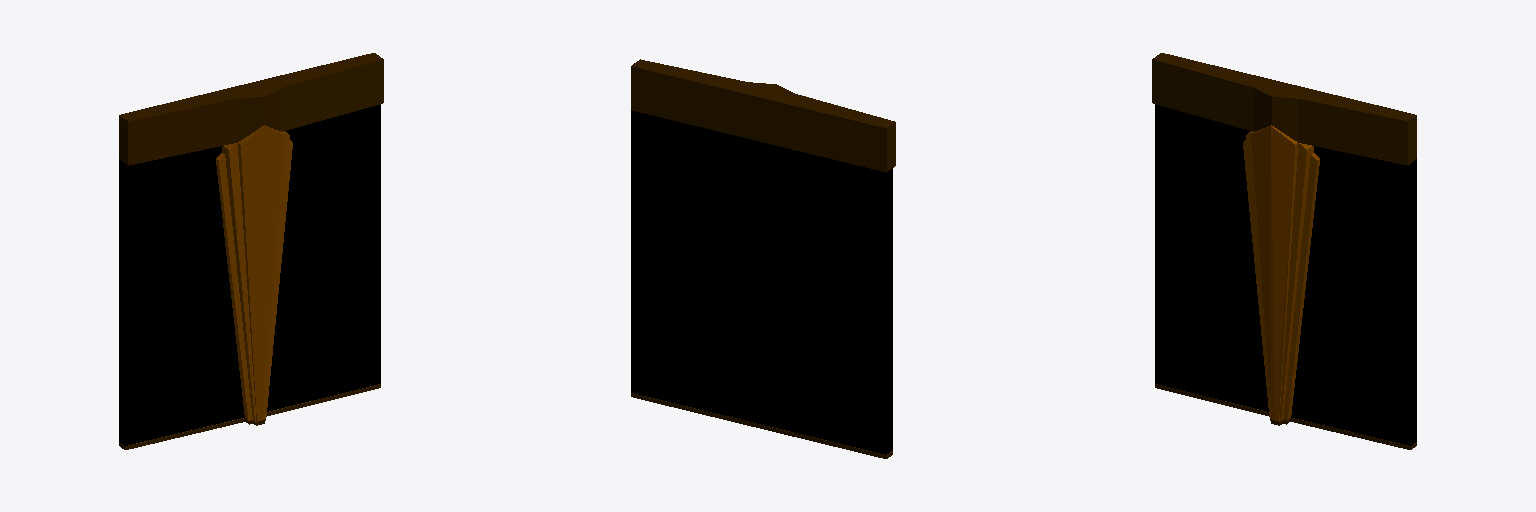
File: wall_piece.obj
3 renders of one model, left to right at view 1: azimuth 30°, elevation 25°; view 2: azimuth 150°, elevation 25°; view 3: azimuth 330°, elevation 25°, orthographic.
Visible parts, largest first — view 1: wall_piece:pCube1; view 2: wall_piece:pCube1; view 3: wall_piece:pCube1.
Boxes of the visible parts, x1=… form: wall_piece:pCube1: x1=119, y1=53, x2=383, y2=449; wall_piece:pCube1: x1=631, y1=59, x2=895, y2=458; wall_piece:pCube1: x1=1152, y1=53, x2=1416, y2=449.
Bounding box in the file's own units: 57.08 × 70.63 × 7.16.